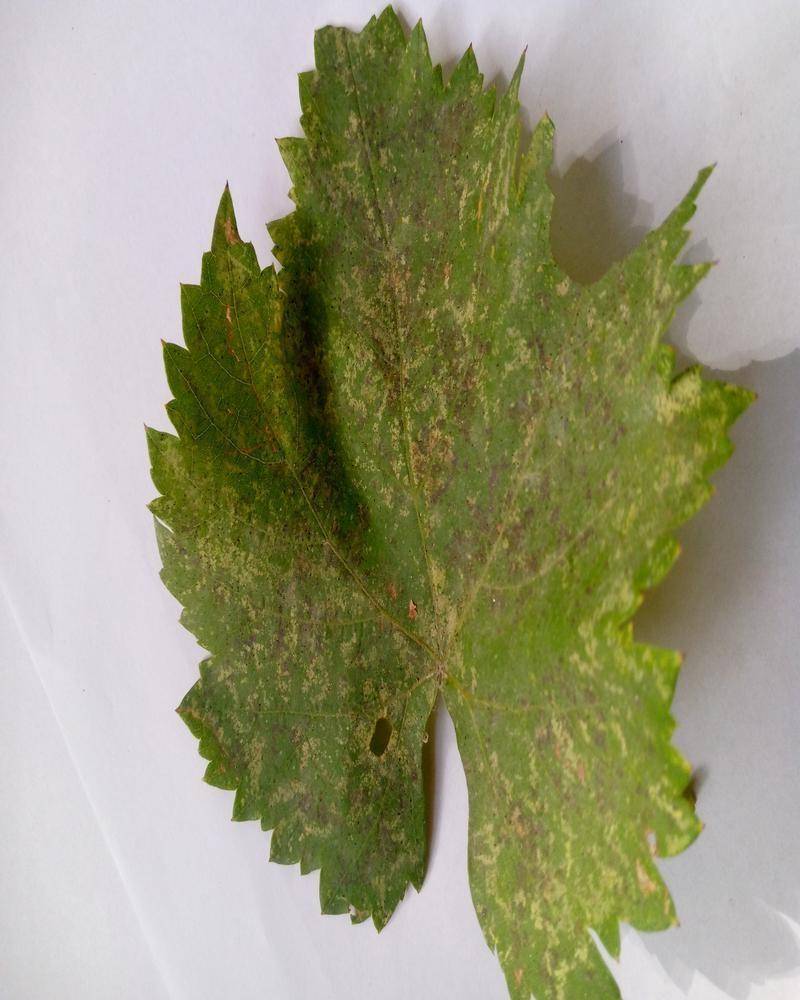Powdery-Mildew: (181, 474, 420, 906), (474, 595, 689, 994), (408, 400, 603, 644), (316, 24, 551, 225), (192, 255, 319, 382), (359, 255, 486, 382), (573, 342, 700, 468)
